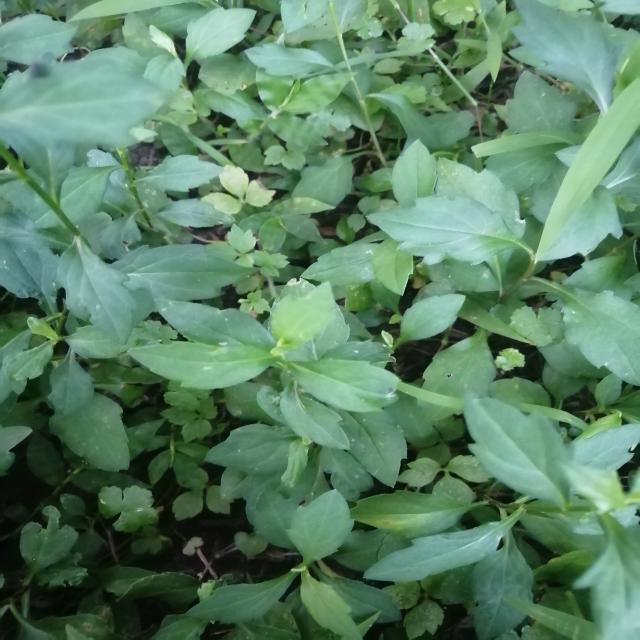Indian aster: (122, 253, 416, 495), (8, 32, 222, 298)
